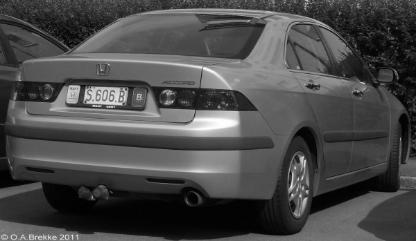license plate: (66, 81, 150, 114)
